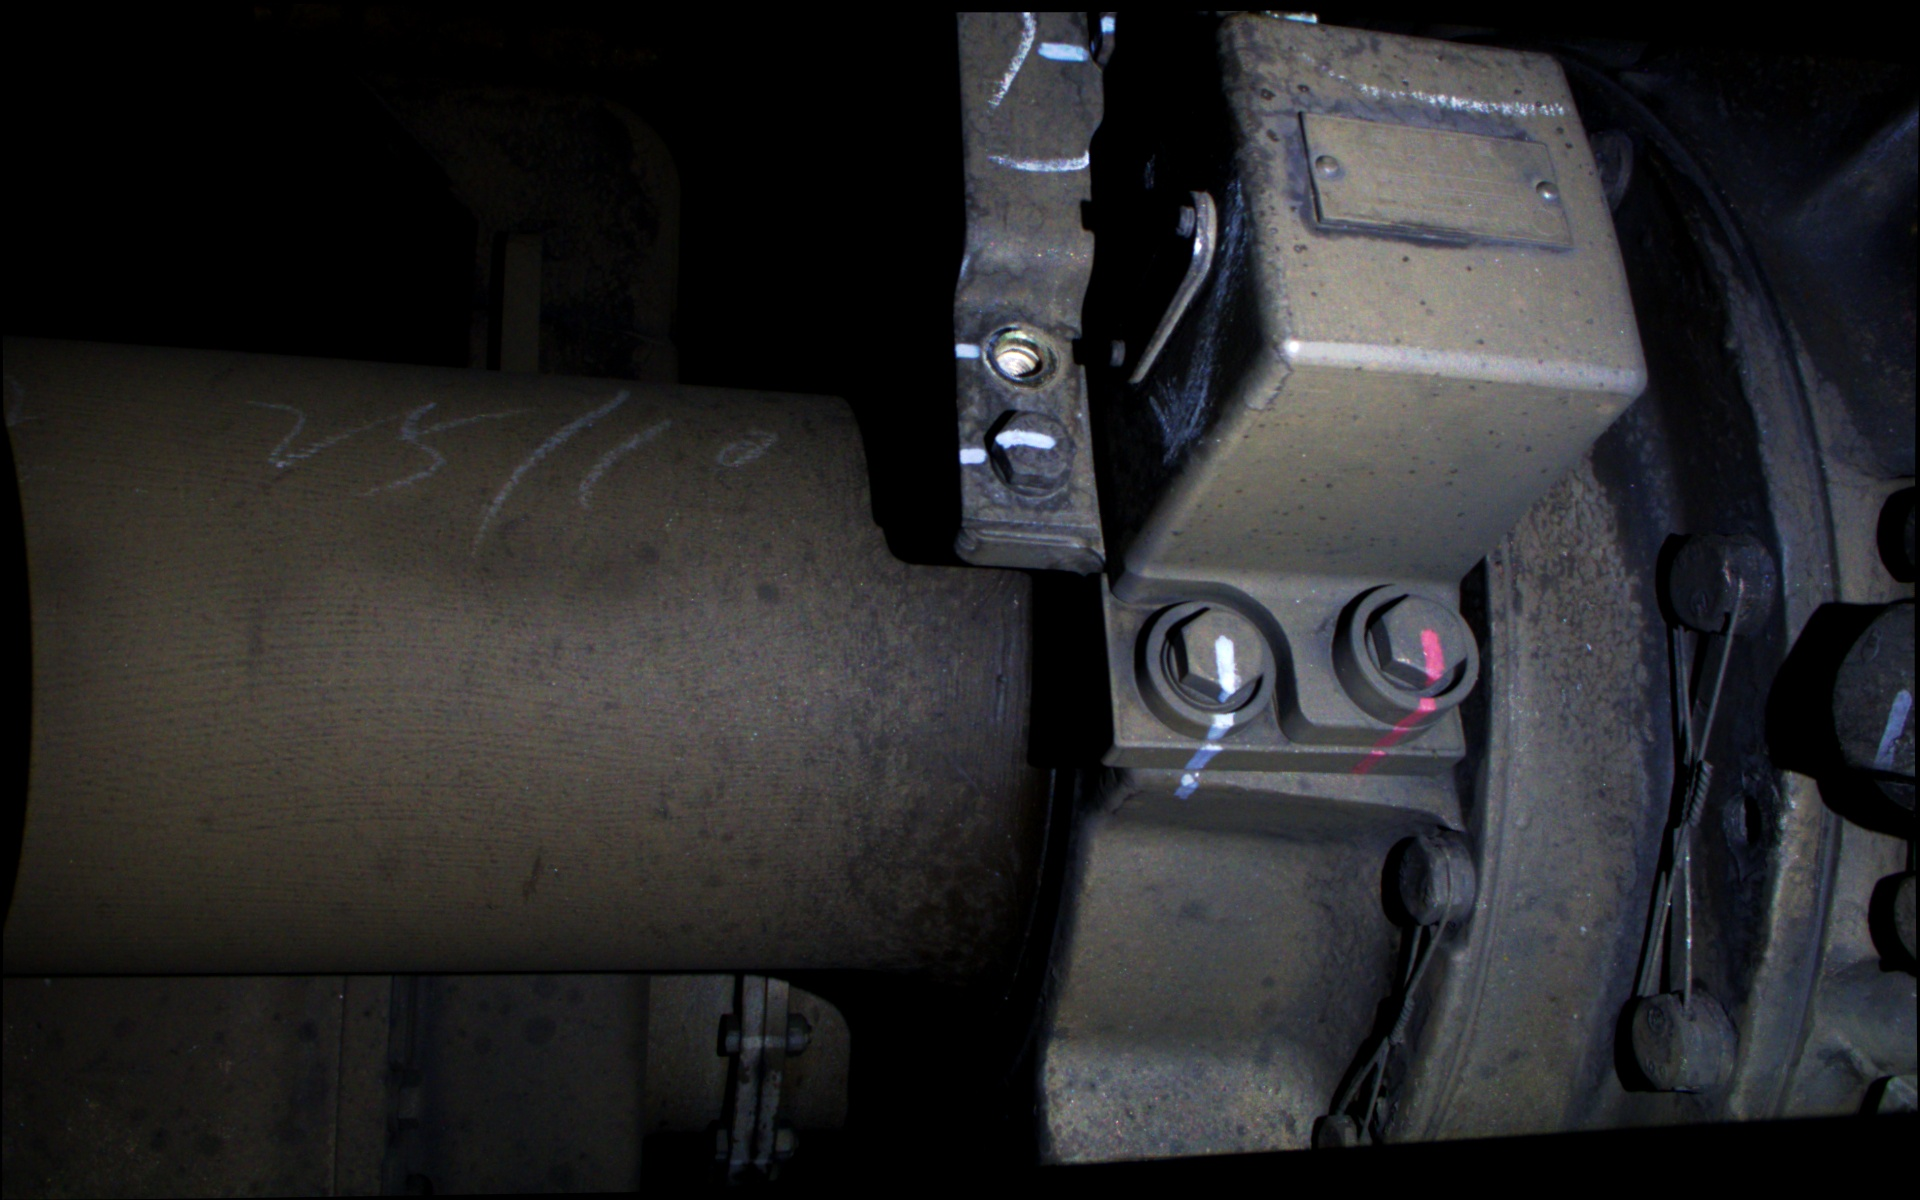bolthead1: (980, 319, 1064, 395)
bolthead2: (981, 408, 1081, 495)
bolthead3: (1146, 594, 1273, 712)
bolthead4: (1363, 592, 1475, 695)
